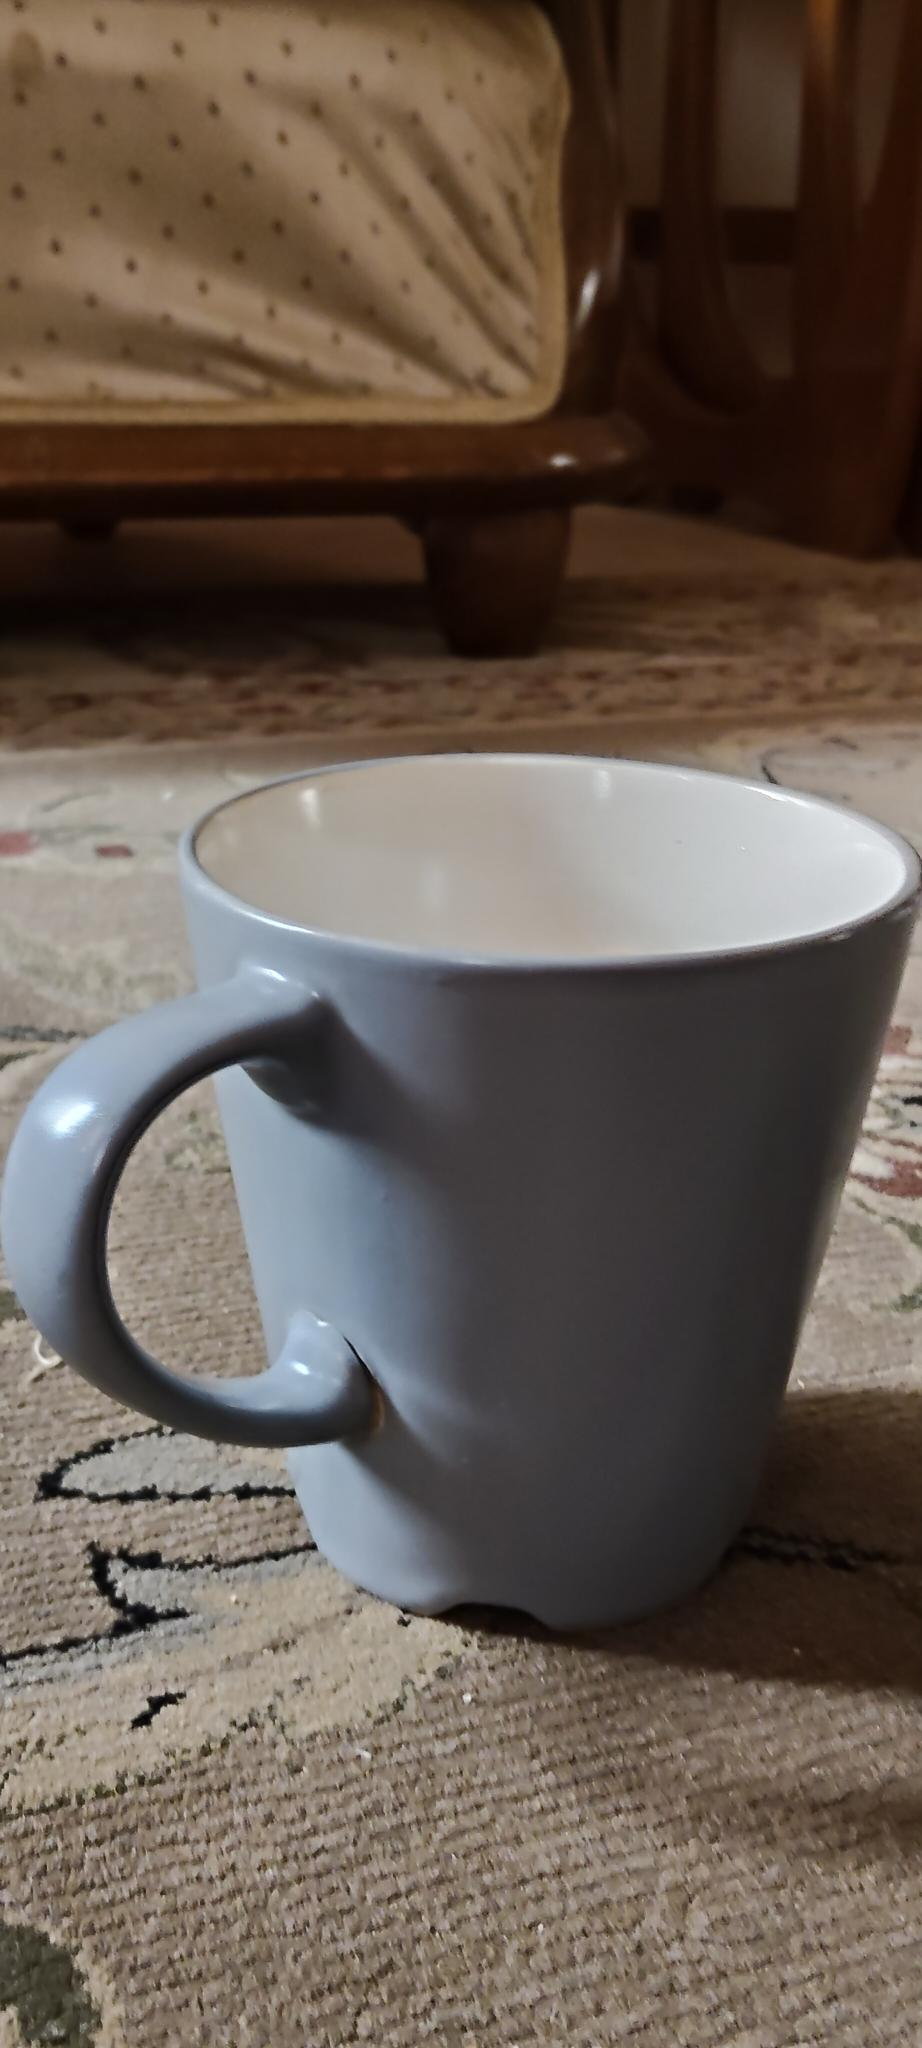Mug: (0, 746, 922, 1622)
